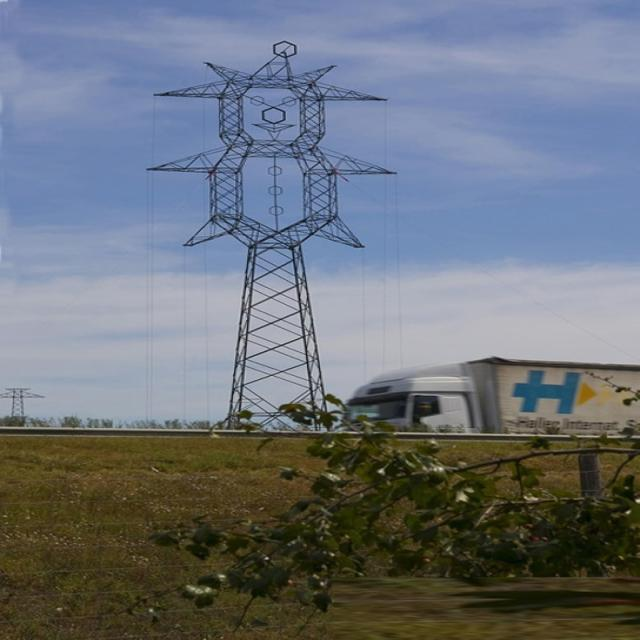non-critical vegetation: (153, 47, 385, 410)
